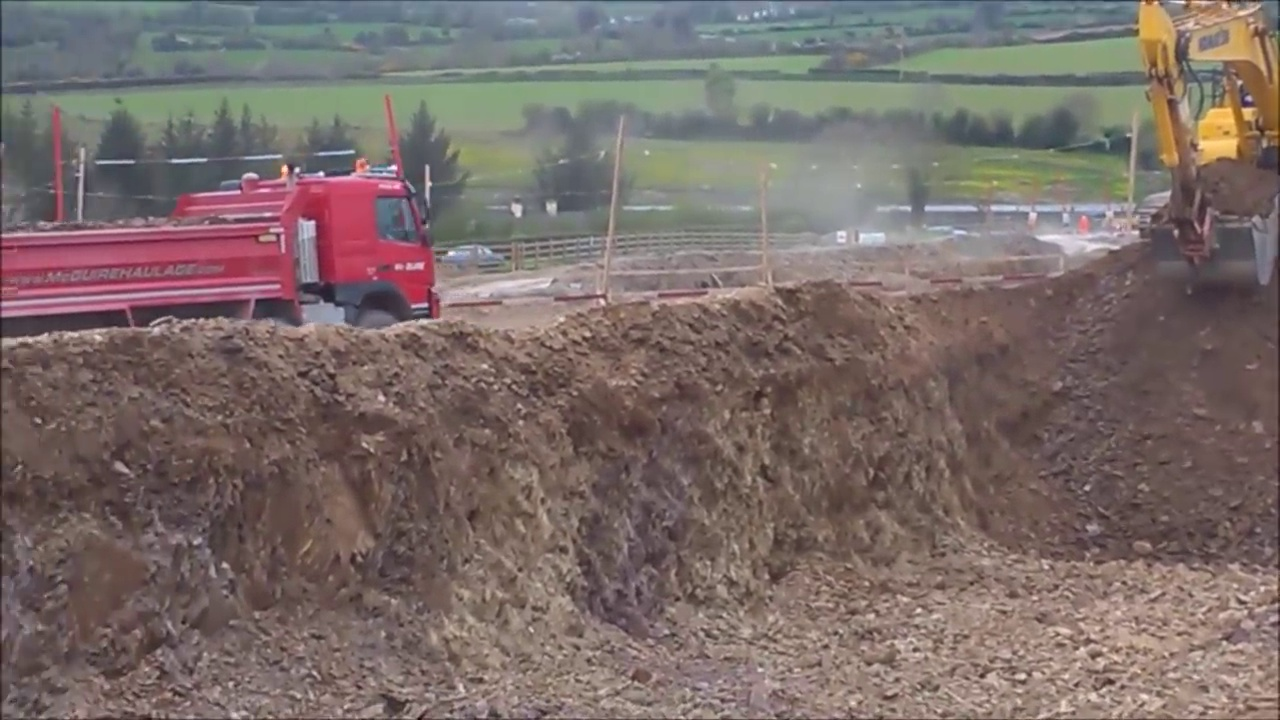excavator: (1139, 3, 1277, 290)
truck: (3, 165, 442, 362)
